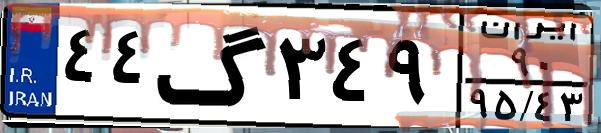0: (537, 27, 568, 80)
3: (270, 28, 330, 110), (560, 70, 590, 125)
4: (330, 28, 385, 110), (57, 26, 110, 100), (110, 28, 156, 98), (535, 70, 560, 125)
5: (495, 70, 520, 125)
9: (385, 28, 445, 110), (508, 27, 537, 80), (470, 70, 495, 125)
گ: (156, 12, 270, 120)
